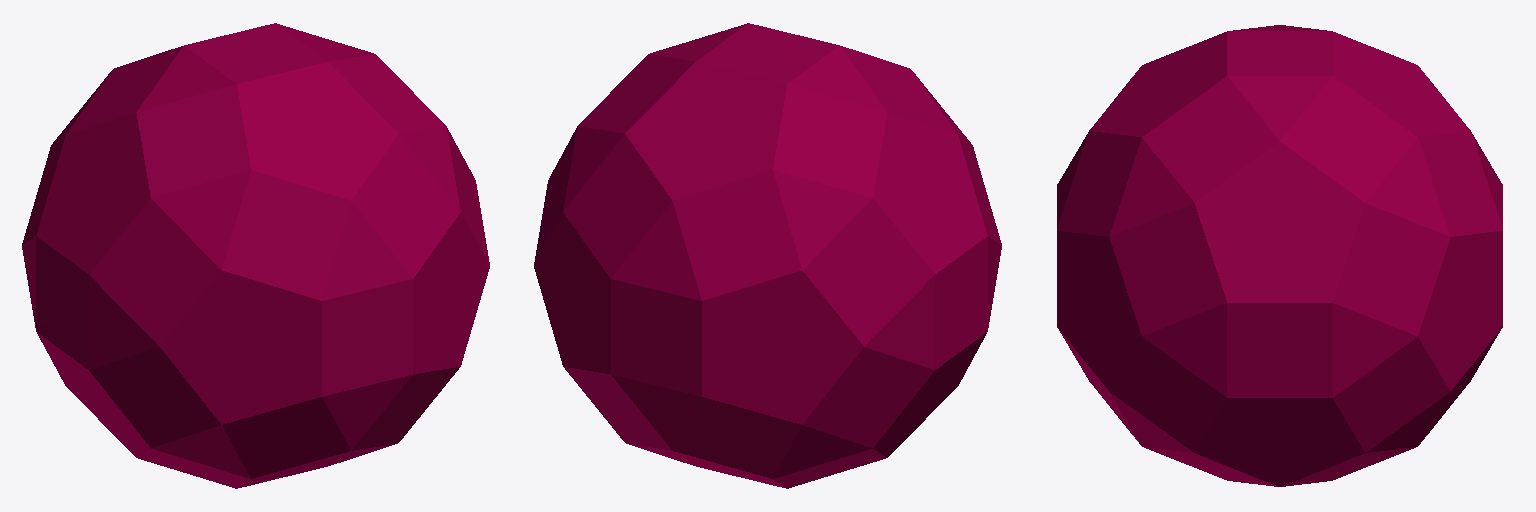
Rendered from SmallRhombicosidodecahedron2.obj.
3 views of the same model, side by side, from view 1: azimuth 30°, elevation 25°; view 2: azimuth 150°, elevation 25°; view 3: azimuth 270°, elevation 25° (orthographic).
Visible parts, largest first — view 1: <STL_BINARY>; view 2: <STL_BINARY>; view 3: <STL_BINARY>.
Part boxes in pixels (left/top/right/bottom): <STL_BINARY>: left=22, top=23, right=489, bottom=488; <STL_BINARY>: left=534, top=23, right=1001, bottom=488; <STL_BINARY>: left=1057, top=25, right=1502, bottom=486.
Bounding box in the file's own units: 4.24 × 4.24 × 4.24.